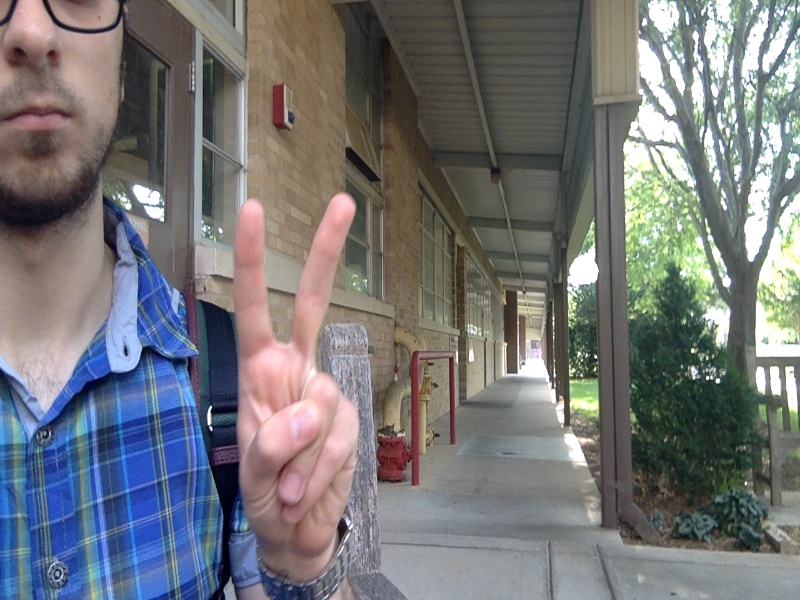2-hand: (229, 197, 363, 557)
